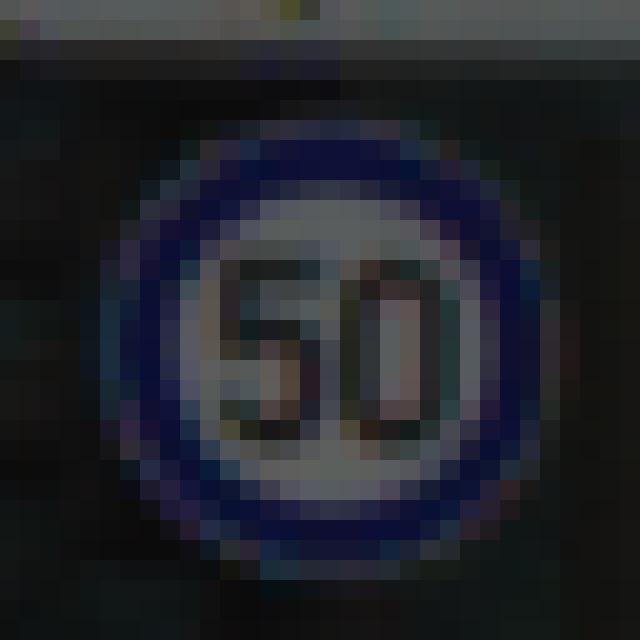SPEED LIMIT 50: (156, 156, 524, 524)
